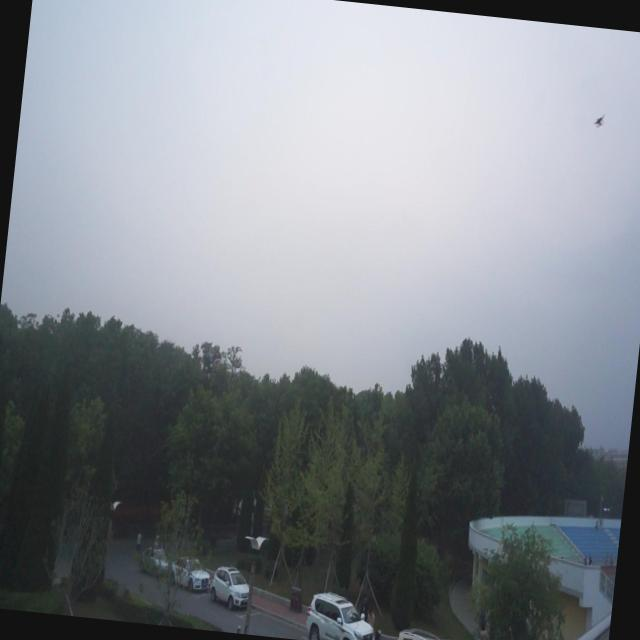drone: (590, 109, 608, 132)
